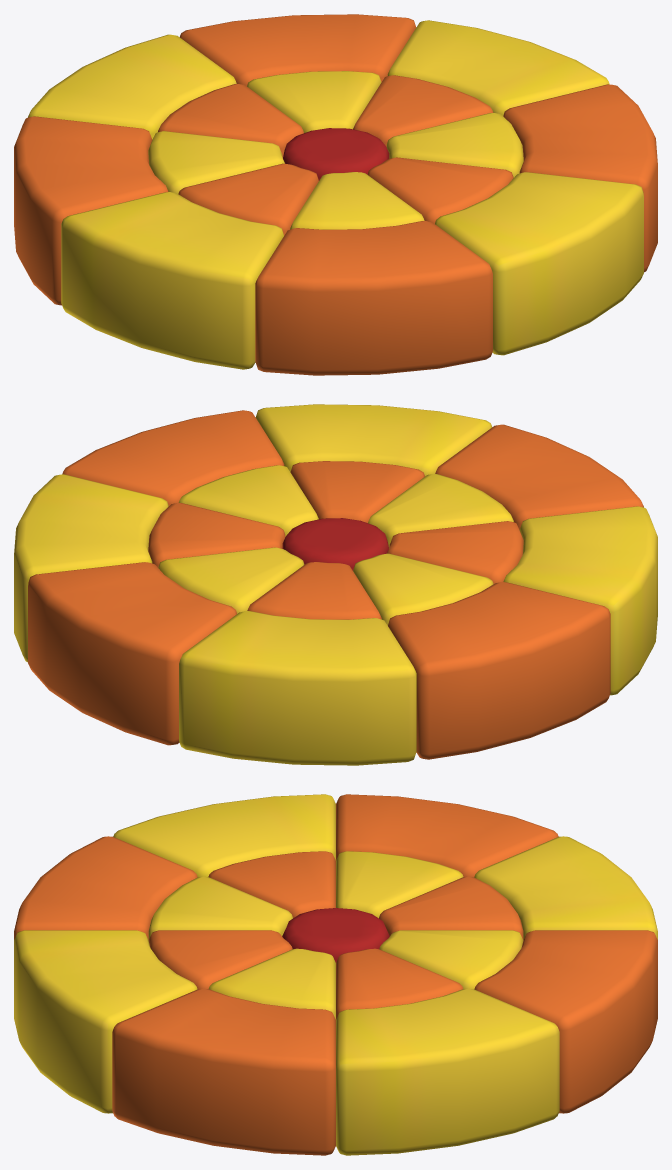
File: candy_platform3.fbx
3 renders of one model, top to bottom at view 1: azimuth 30°, elevation 25°; view 2: azimuth 150°, elevation 25°; view 3: azimuth 270°, elevation 25°, orthographic.
Visible parts, largest first — view 1: candy_platform3; view 2: candy_platform3; view 3: candy_platform3.
Part boxes in pixels (x1,y1,x2,y2): candy_platform3: (14, 14, 657, 375); candy_platform3: (14, 404, 657, 765); candy_platform3: (14, 794, 657, 1155).
Size of the model in its own units: 598 by 100 by 598.
1 material, 1 textured.
